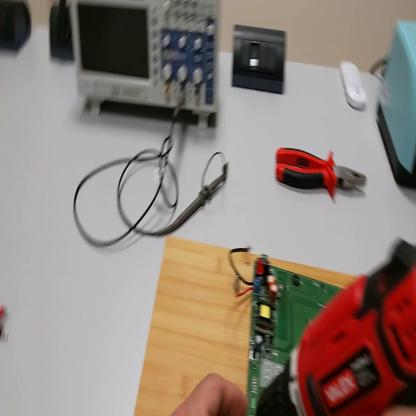electric screwdriver: (258, 238, 416, 415)
hand: (173, 372, 250, 415)
low voltage board: (228, 246, 343, 416)
oscilloscope: (72, 2, 222, 120)
oscilloscope probe tip: (157, 173, 223, 235)
pliers: (275, 146, 367, 199)
socket: (2, 2, 32, 57), (49, 5, 75, 64)
welder station: (376, 18, 416, 189)
working area: (136, 237, 360, 416)
